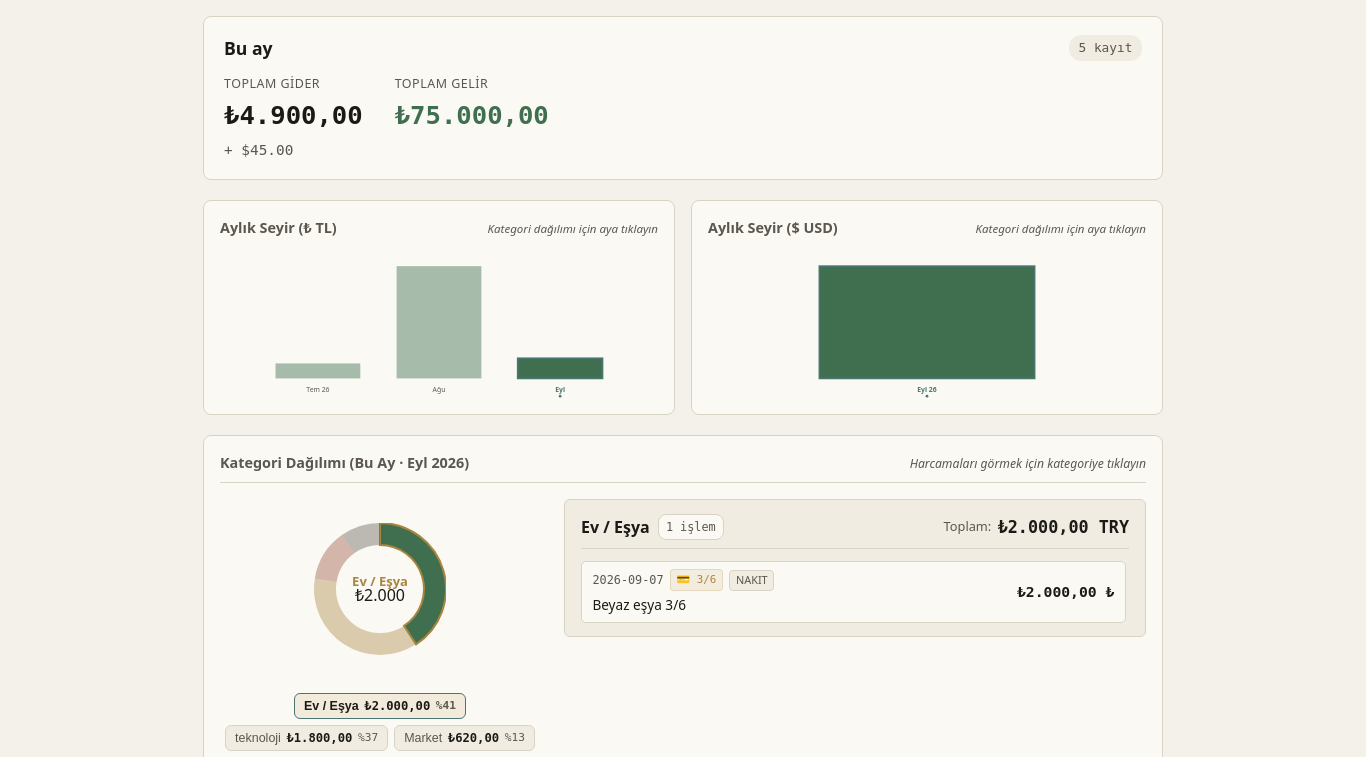
Test case: Ozet sayfası › kategori dağılımında seçili kategorinin harcama detayını listeler ve tıklamayla değiştirir
Expected: the element with class "detail-tx-list" is shown, [581, 561, 1129, 623]
Expected: the text "Market" is shown, [404, 731, 442, 745]
Click the button "Market ₺620,00 %13": (464, 738) [394, 725, 535, 751]
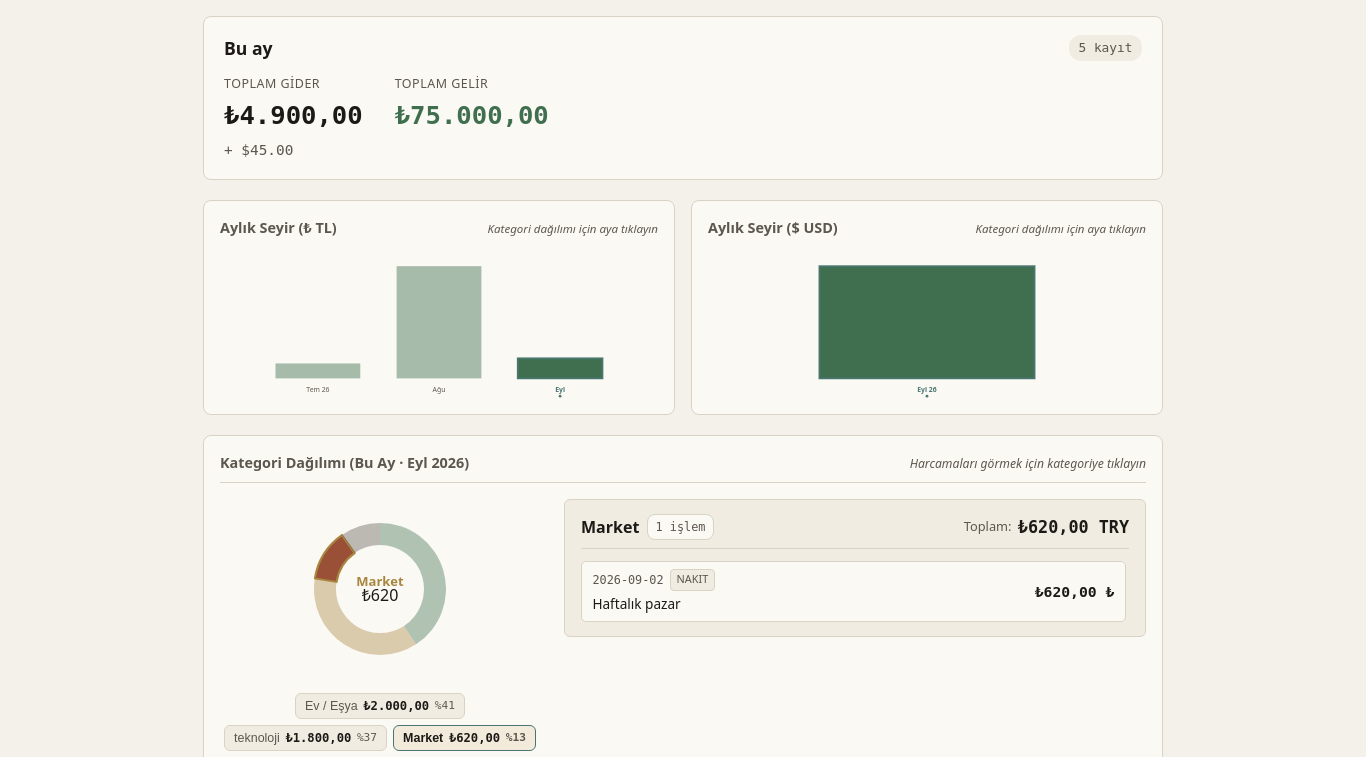
Now the heading with class "detail-cat-title" reads "Market", box [581, 516, 639, 538]
Now the text "Haftalık pazar" is shown, box [592, 594, 681, 613]
